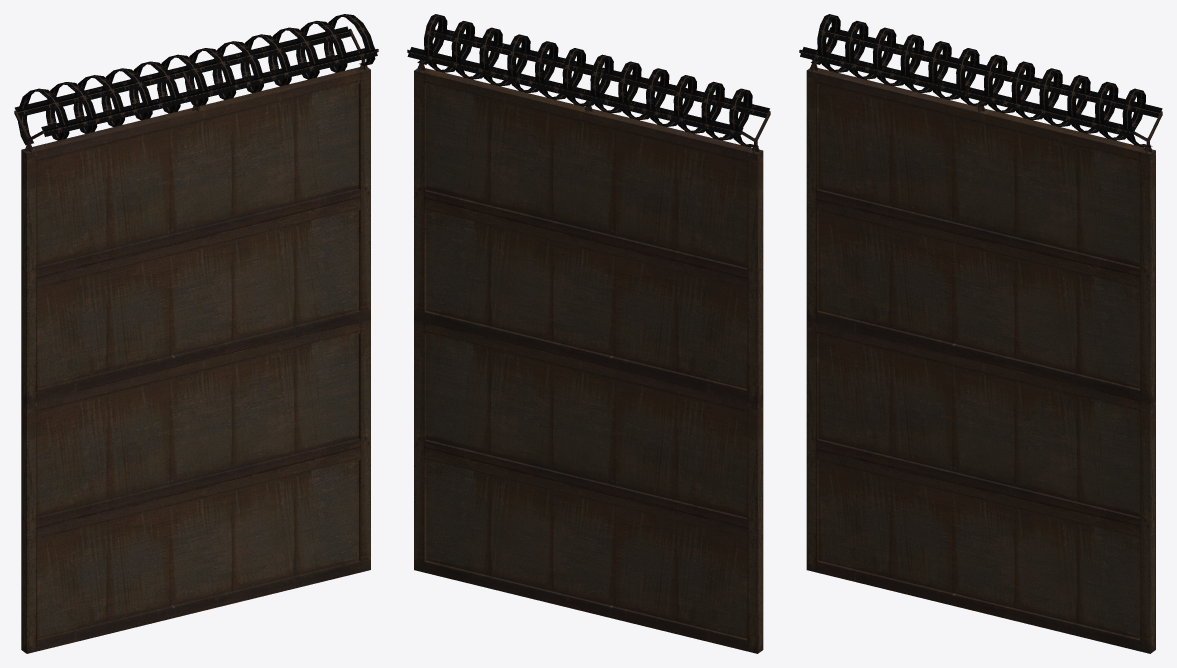
File: metal_fence_hr_2_tall.obj
3 renders of one model, left to right at view 1: azimuth 30°, elevation 25°; view 2: azimuth 150°, elevation 25°; view 3: azimuth 330°, elevation 25°, orthographic.
Parts seen in each view (by area): view 1: metal_fence_hr_2_tall; view 2: metal_fence_hr_2_tall; view 3: metal_fence_hr_2_tall.
Part boxes in pixels (x1,y1,x2,y2): metal_fence_hr_2_tall: (14, 14, 378, 653); metal_fence_hr_2_tall: (407, 14, 770, 653); metal_fence_hr_2_tall: (799, 14, 1162, 653).
Bounding box in the file's own units: 3.6 × 5.56 × 0.5551.
